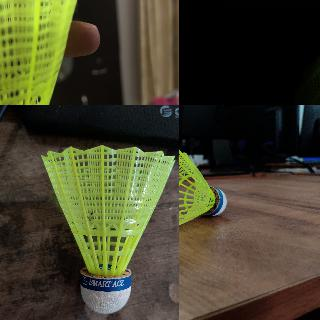shuttlecock: (39, 144, 178, 315), (0, 0, 83, 104), (179, 143, 228, 232)
